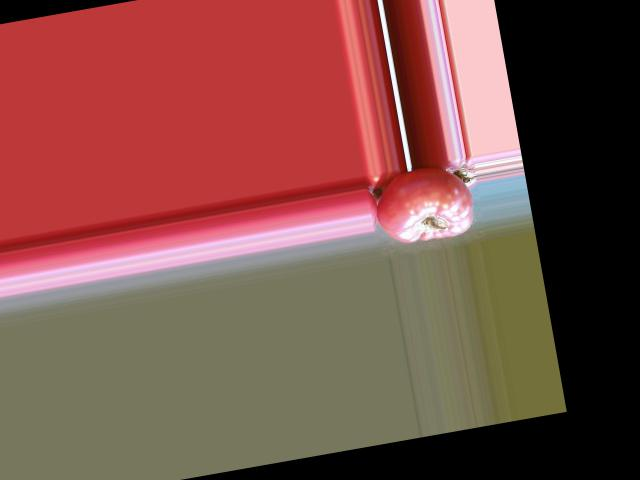tomato: (368, 160, 477, 248)
